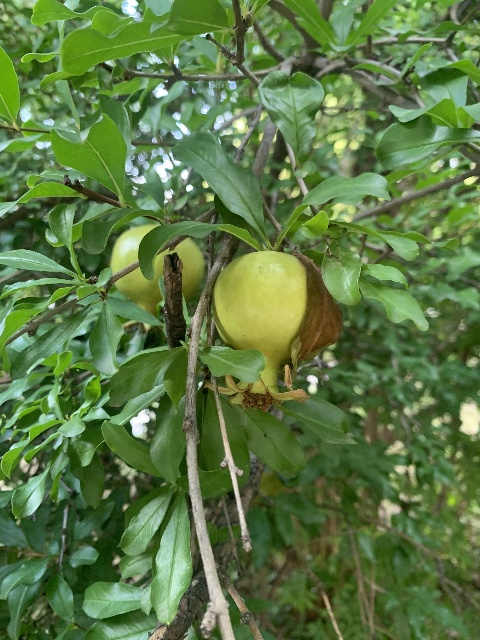mid-growth: (203, 250, 311, 410), (108, 222, 204, 334)
